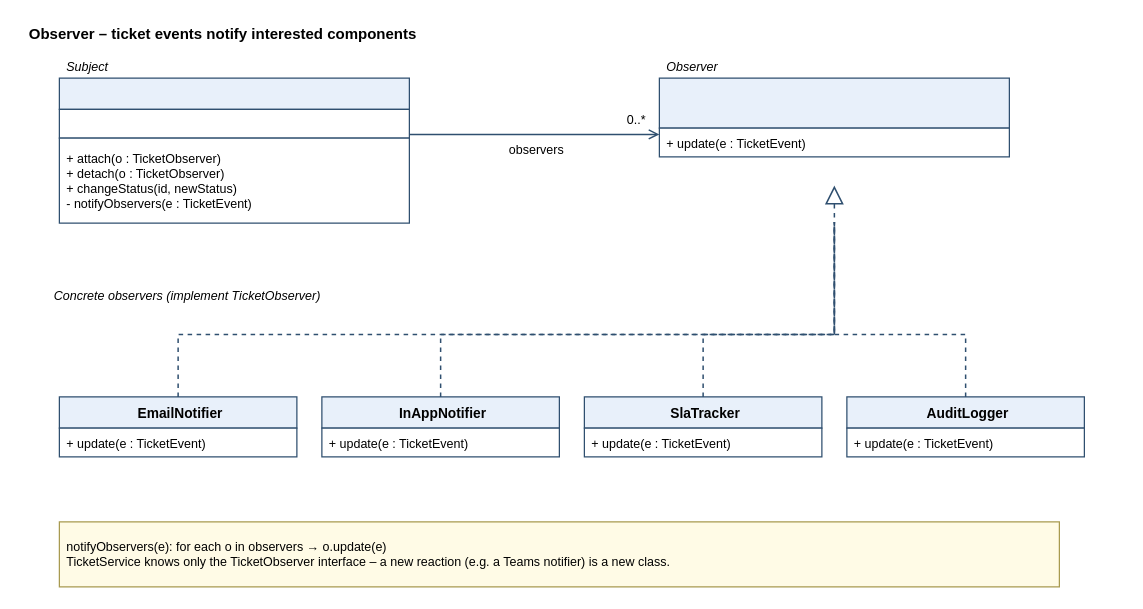
Image size: 1143x609. Some labels were removed from this diagram. Each missing label, with the box of its shape:
- observers : List<TicketObserver>: (58, 108, 409, 138)
TicketService: (58, 77, 409, 109)
«interface» TicketObserver: (658, 77, 1009, 128)
